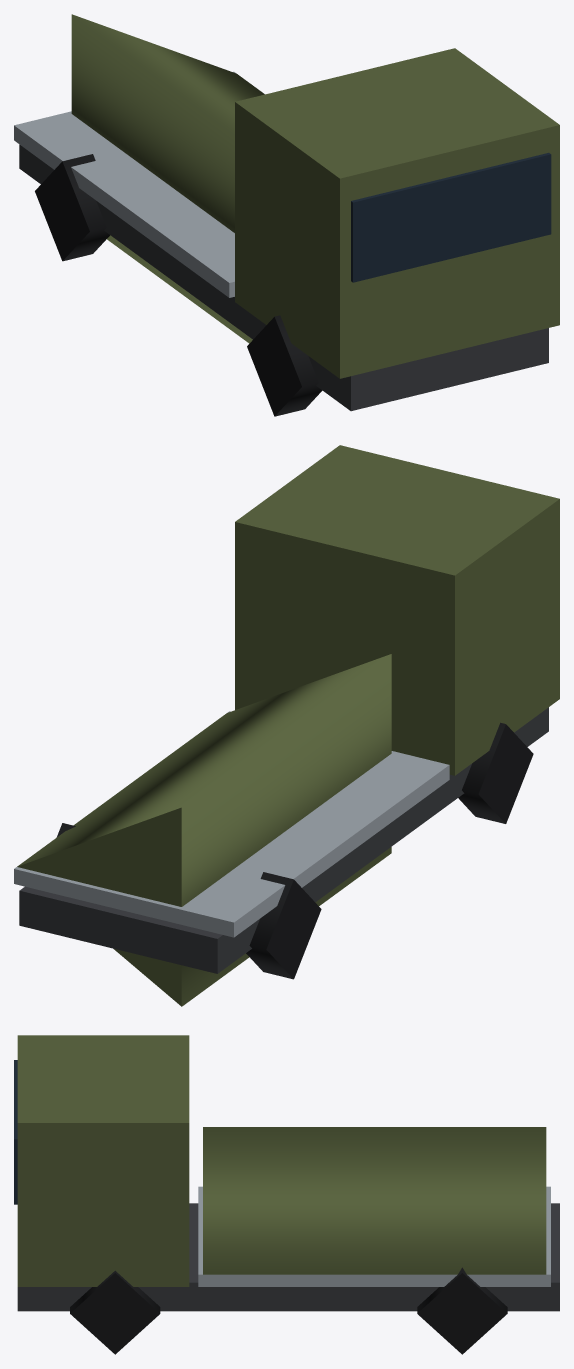
File: veh_ground_truck_a07_lod2.glb
The picture shows the model from 3 angles, top to bottom: view 1: azimuth 30°, elevation 25°; view 2: azimuth 150°, elevation 25°; view 3: azimuth 270°, elevation 25°; orthographic projection. The views are drawn at different scales.
Visible parts, largest first — view 1: body, wheel_0, wheel_2; view 2: body, wheel_0, wheel_2; view 3: body, wheel_1, wheel_3.
Part boxes in pixels (box(x1,y1,x2,y2)): body: box(14, 14, 559, 411); wheel_0: box(35, 154, 109, 261); wheel_2: box(247, 315, 322, 416); body: box(14, 445, 559, 1006); wheel_0: box(246, 872, 321, 979); wheel_2: box(458, 722, 533, 823); body: box(14, 1035, 559, 1311); wheel_1: box(417, 1267, 507, 1354); wheel_3: box(70, 1270, 160, 1354).
Size of the model in its own units: 2.42 by 2.85 by 6.04.
